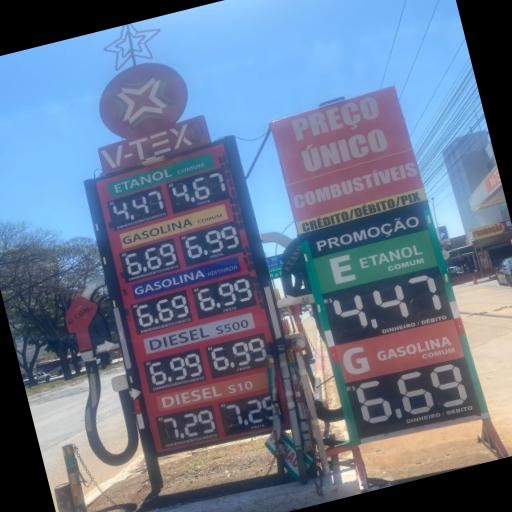ETANOL: (316, 231, 438, 290), (107, 152, 213, 196)
GASOLINA AD: (132, 253, 242, 297)
GASOLINA C: (337, 319, 468, 383), (118, 205, 227, 248)
S10: (156, 373, 260, 415)
S500: (143, 310, 258, 356)
placa: (97, 146, 292, 456)
preco: (347, 359, 479, 436), (325, 271, 451, 338), (107, 187, 167, 230), (144, 348, 205, 390), (130, 291, 192, 332), (120, 238, 179, 279), (158, 405, 219, 443)
